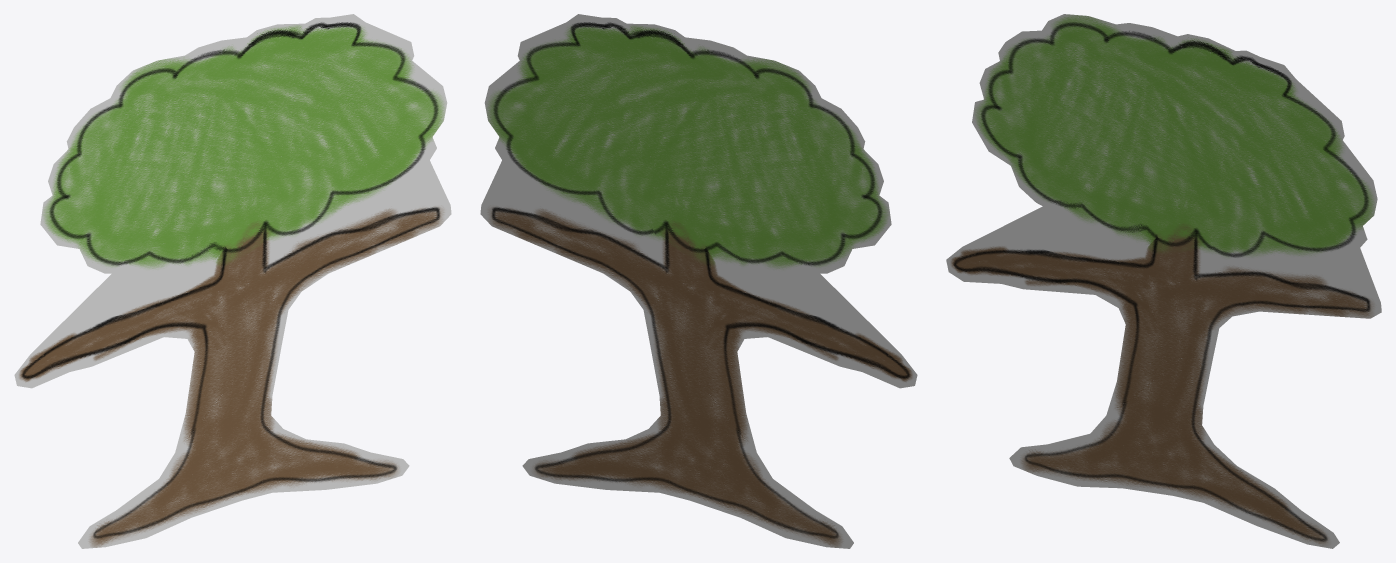
The model's file is TreeBig.fbx.
3 views of the same model, side by side, from view 1: azimuth 30°, elevation 25°; view 2: azimuth 150°, elevation 25°; view 3: azimuth 330°, elevation 25° (orthographic).
Visible parts, largest first — view 1: Trad; view 2: Trad; view 3: Trad.
Part boxes in pixels (bbox=[...]): Trad: bbox=[14, 14, 451, 548]; Trad: bbox=[480, 14, 917, 548]; Trad: bbox=[946, 14, 1381, 548].
Size of the model in its own units: 350 by 370 by 6.07e-05.
